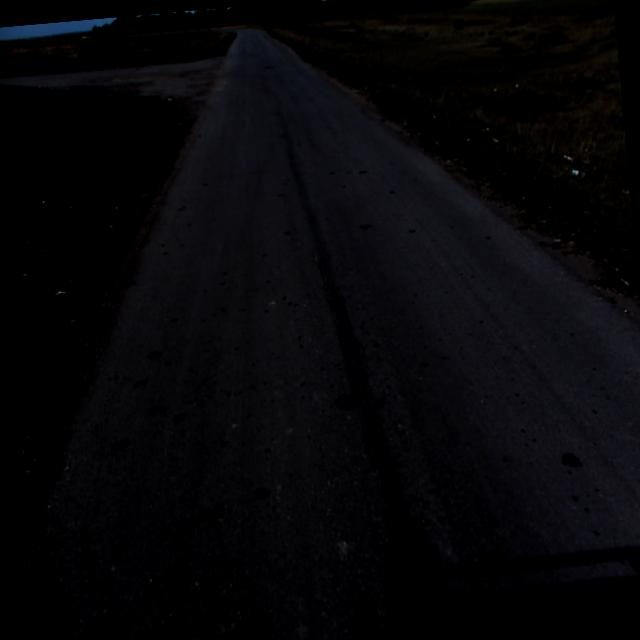road: (0, 28, 640, 640)
